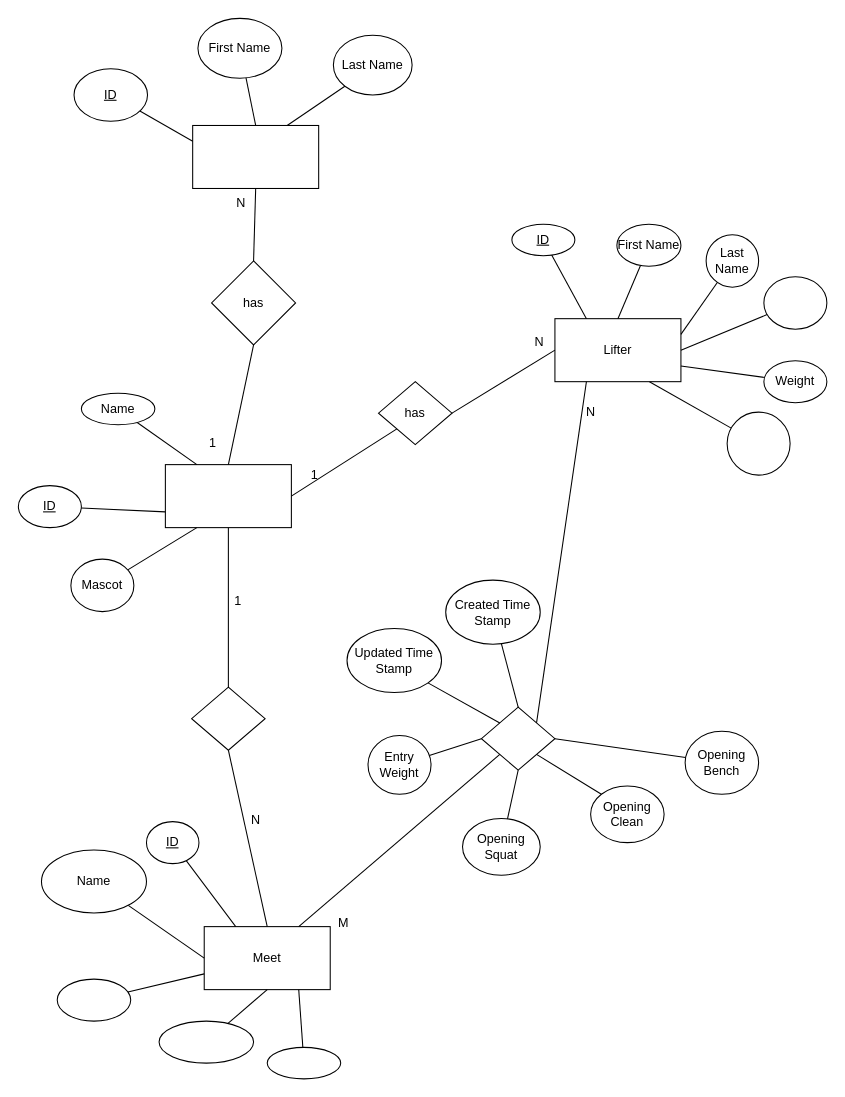
This 845x1097 diagram has some shape labels left out. The shapes that lost their labels are listed below. From the top down, each one's centre as x and y in pixels, then its label:
At point (255, 156): "Coach".
At point (795, 302): "Gender".
At point (758, 443): "Grade Level".
At point (227, 496): "Team".
At point (228, 718): "hosts".
At point (517, 738): "enters".
At point (93, 999): "City".
At point (206, 1041): "State".
At point (303, 1062): "Zip".
